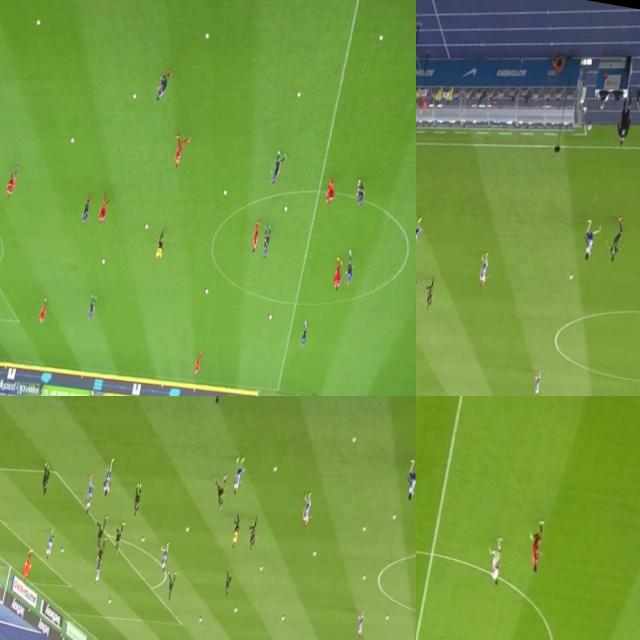ball: (566, 270, 574, 284), (203, 286, 209, 296), (106, 598, 112, 608), (266, 313, 272, 322), (34, 19, 40, 28), (202, 34, 210, 40), (272, 464, 278, 472), (232, 606, 238, 614), (184, 525, 190, 533), (378, 34, 383, 43), (131, 92, 136, 101), (282, 205, 288, 212), (222, 189, 227, 197), (384, 614, 389, 622), (361, 526, 366, 534), (390, 514, 396, 520), (140, 535, 145, 542), (101, 258, 105, 266), (144, 223, 148, 230), (352, 436, 356, 443), (280, 616, 285, 621), (297, 90, 300, 98), (70, 137, 74, 143), (362, 574, 366, 580), (258, 566, 262, 572), (198, 617, 202, 623), (59, 548, 62, 554), (314, 551, 316, 557)
player: (481, 534, 506, 592), (524, 522, 548, 574), (580, 218, 600, 264), (608, 216, 624, 264), (228, 454, 246, 496), (170, 134, 189, 172), (210, 470, 228, 510), (296, 492, 314, 530), (101, 454, 116, 497), (402, 456, 416, 502), (270, 149, 286, 186), (342, 247, 358, 284), (330, 252, 344, 292), (82, 476, 96, 514), (155, 71, 171, 104), (475, 252, 490, 286), (422, 278, 436, 314), (244, 520, 260, 550), (129, 482, 143, 516), (351, 180, 367, 209), (259, 224, 272, 258), (5, 165, 18, 198), (323, 176, 338, 204), (157, 542, 171, 572), (111, 522, 124, 553), (249, 222, 261, 255), (164, 569, 176, 602), (79, 194, 91, 226), (352, 610, 367, 635), (40, 462, 51, 496), (298, 318, 310, 349), (95, 518, 106, 549), (531, 368, 543, 396), (22, 550, 32, 582), (98, 196, 109, 224), (45, 528, 55, 558), (85, 294, 96, 321), (222, 570, 232, 599), (38, 294, 48, 322), (416, 220, 422, 257), (194, 352, 202, 376), (96, 542, 104, 566), (94, 560, 102, 584)
